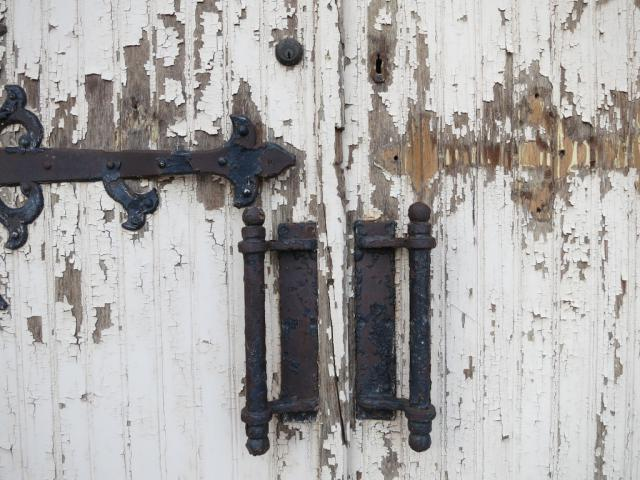Door-handle: (236, 206, 320, 457), (354, 200, 437, 451), (354, 200, 436, 452)
